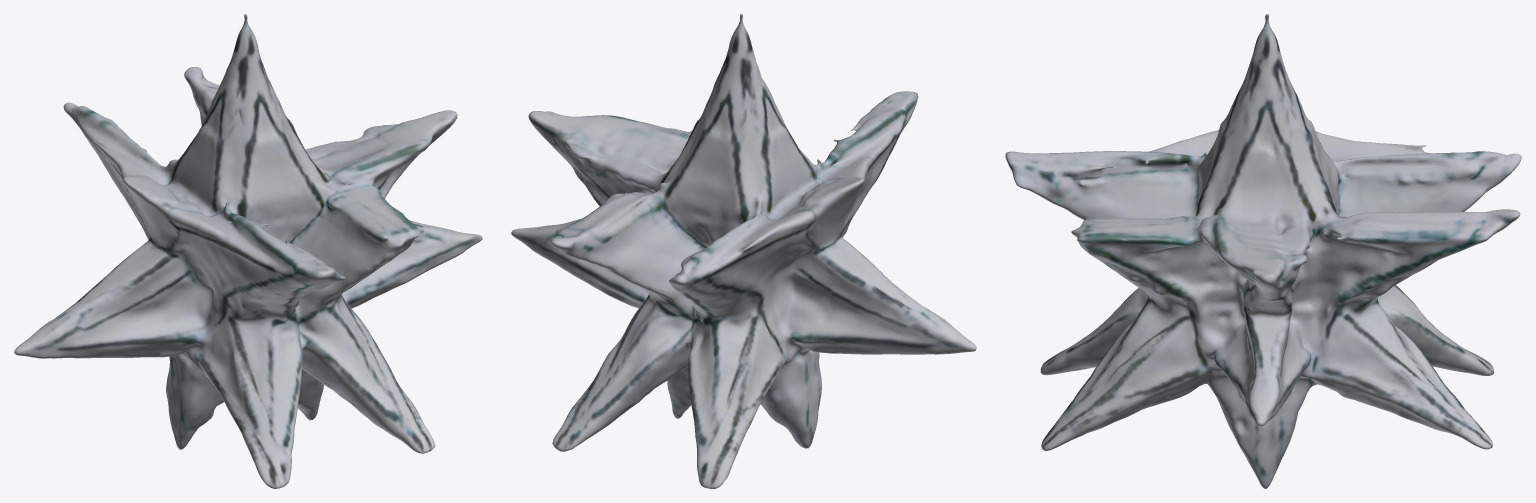
Rendered from fd6c466dd015_star__3d_asset_0_gl.fbx.
3 views of the same model, side by side, from view 1: azimuth 30°, elevation 25°; view 2: azimuth 150°, elevation 25°; view 3: azimuth 270°, elevation 25° (orthographic). The views are drawn at different scales.
Visible parts, largest first — view 1: high_poly; view 2: high_poly; view 3: high_poly.
Boxes of the visible parts, left/top/right/bottom form: high_poly: left=14, top=14, right=482, bottom=488; high_poly: left=511, top=14, right=976, bottom=488; high_poly: left=1005, top=14, right=1521, bottom=488.
Size of the model in its own units: 100 by 86.21 by 91.3.
